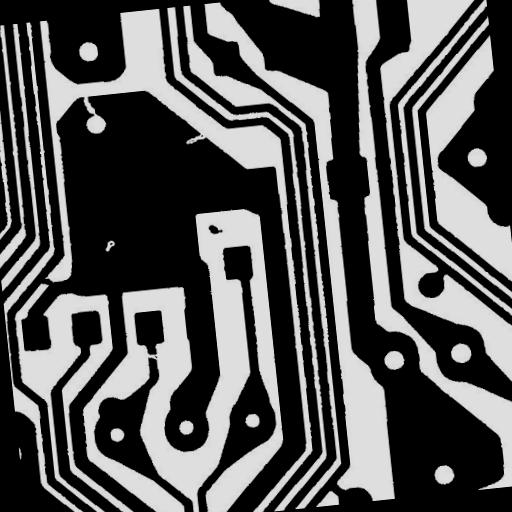copper: (200, 216, 231, 242)
mousebite: (177, 124, 215, 152)
open: (74, 84, 106, 127), (138, 344, 168, 369)
pin-hole: (96, 232, 124, 260)
short: (28, 268, 61, 294)
